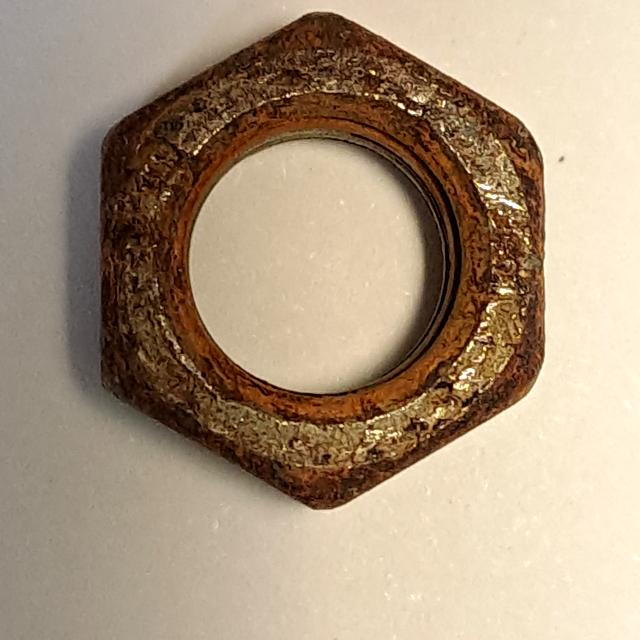Rust: (87, 2, 558, 527)
